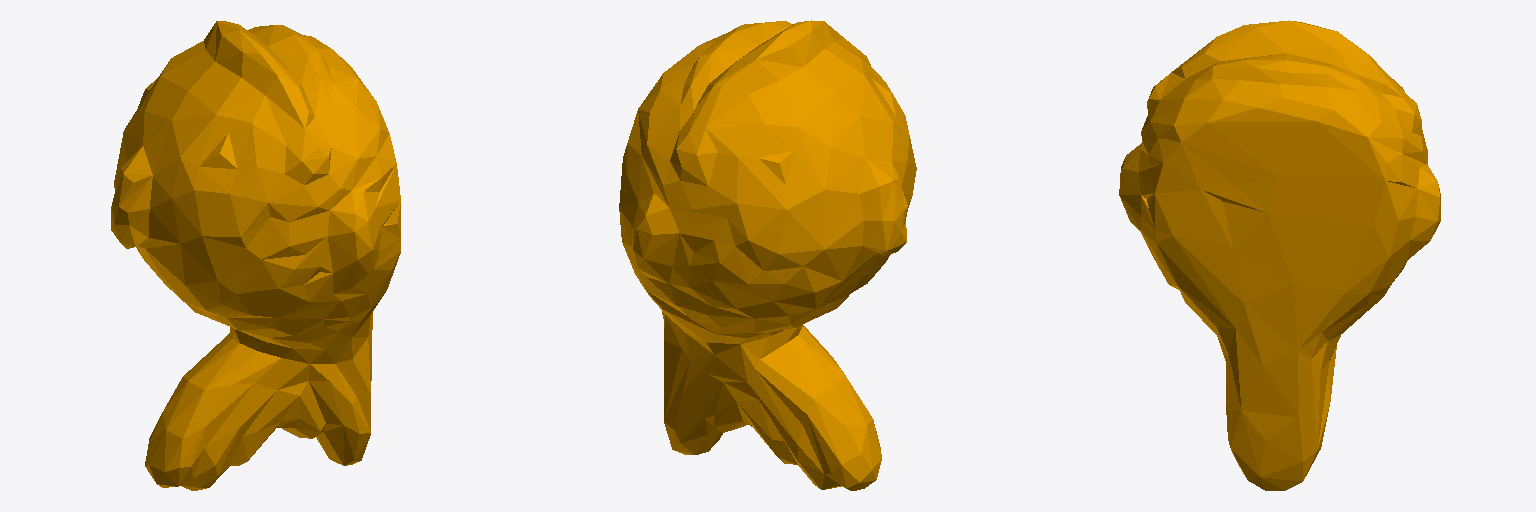
URDF robot description (Fish_800_tex):
<?xml version="1.0"?>
<robot name="Fish_800_tex">
  <link name="base_link">
    <contact>
      <lateral_friction value="1.0"/>
      <rolling_friction value="0.0"/>
      <contact_cfm value="0.0"/>
      <contact_erp value="1.0"/>
    </contact>
    <inertial>
      <mass value="0.0264525334067"/>
      <inertia ixx="1" ixy="0" ixz="0" iyy="1" iyz="0" izz="1"/>
    </inertial>
    <visual>
      <geometry>
        <mesh filename="Fish_800_tex_visual.obj"/>
      </geometry>
    </visual>
    <collision>
      <geometry>
        <mesh filename="Fish_800_tex_collision.obj"/>
      </geometry>
    </collision>
  </link>
</robot>

--- What the picture shows (computed from the rendered views, not written in the file) ---
Views: 3 orthographic renders of the robot side by side, from view 1: azimuth 30°, elevation 25°; view 2: azimuth 150°, elevation 25°; view 3: azimuth 270°, elevation 25°.
Robot: Fish_800_tex — 1 links, 0 joints (none); root link base_link; default pose: every joint at zero.
Visible links, largest first — view 1: base_link; view 2: base_link; view 3: base_link.
Link boxes in pixels (x1=…): base_link: x1=111, y1=21, x2=400, y2=490; base_link: x1=619, y1=20, x2=916, y2=490; base_link: x1=1119, y1=20, x2=1440, y2=490.
Size in the robot's own frame: 0.0358 by 0.045 by 0.0656 metres.
1 mesh visuals loaded from 1 distinct referenced files (1 OBJ).